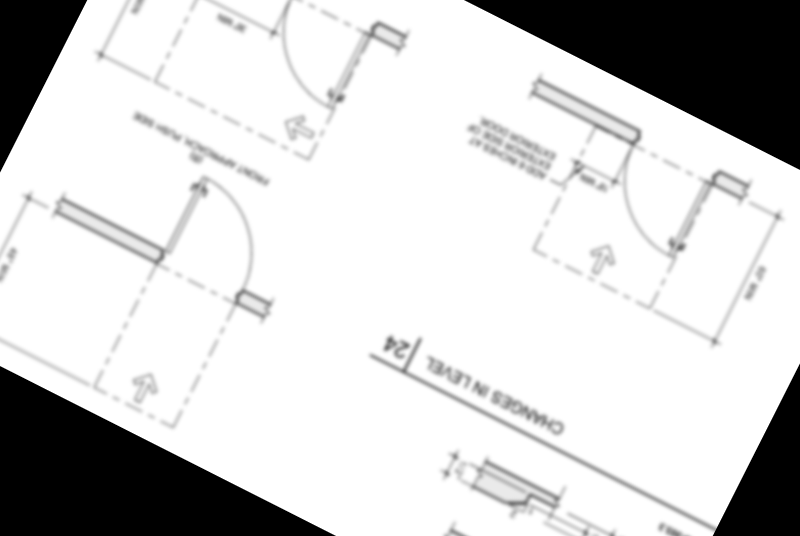door: (152, 170, 284, 307), (592, 137, 716, 261), (251, 0, 376, 112)
